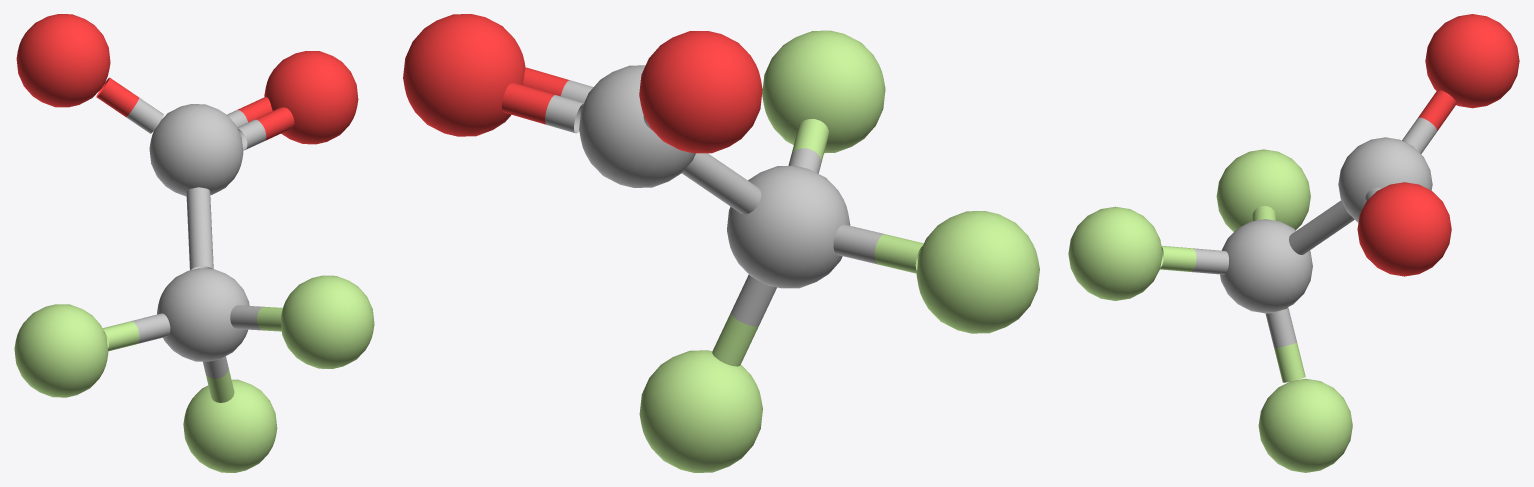
File: TrifluoroaceticAcid6422f.glb
3 views of the same model, side by side, from view 1: azimuth 30°, elevation 25°; view 2: azimuth 150°, elevation 25°; view 3: azimuth 270°, elevation 25° (orthographic). The views are drawn at different scales.
Parts seen in each view (by area): view 1: atoms, sticks; view 2: atoms, sticks; view 3: atoms, sticks.
Boxes of the visible parts, x1=… form: atoms: x1=14, y1=14, x2=374, y2=472; sticks: x1=96, y1=77, x2=294, y2=402; atoms: x1=403, y1=14, x2=1039, y2=472; sticks: x1=502, y1=67, x2=923, y2=366; atoms: x1=1068, y1=14, x2=1519, y2=472; sticks: x1=1160, y1=90, x2=1456, y2=382.
Bounding box in the file's own units: 3.88 × 3.78 × 3.78.
